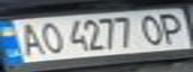2: (81, 16, 103, 52)
4: (63, 17, 87, 53)
7: (112, 14, 139, 47), (97, 15, 118, 51)
A: (12, 20, 45, 57)
O: (33, 19, 66, 55), (136, 11, 169, 46)
P: (154, 10, 190, 45)
